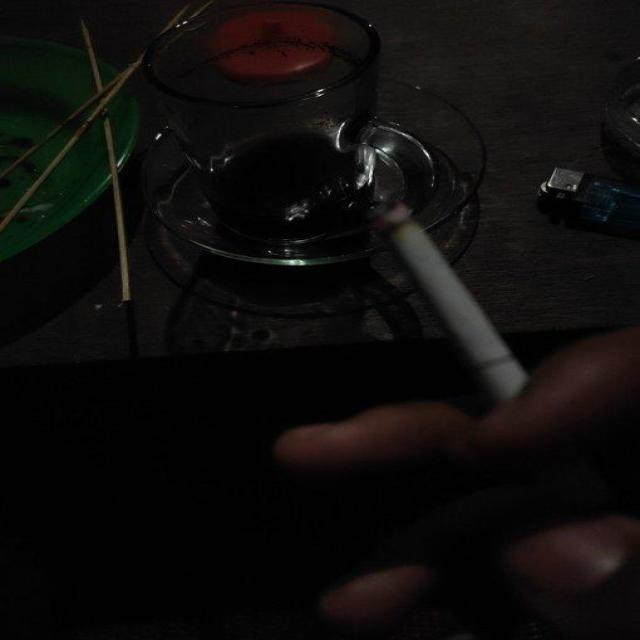rokok: (368, 188, 522, 396)
